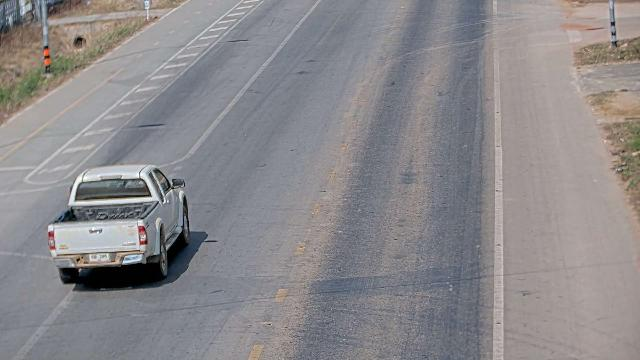pickup-truck: (46, 163, 191, 284)
